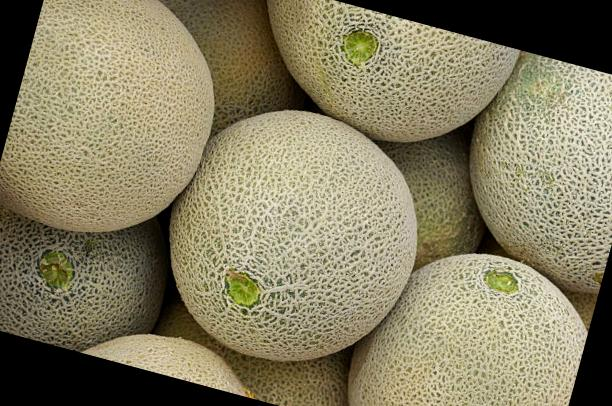Melon Ripe: (146, 85, 446, 390), (0, 0, 244, 261), (333, 225, 601, 406)
